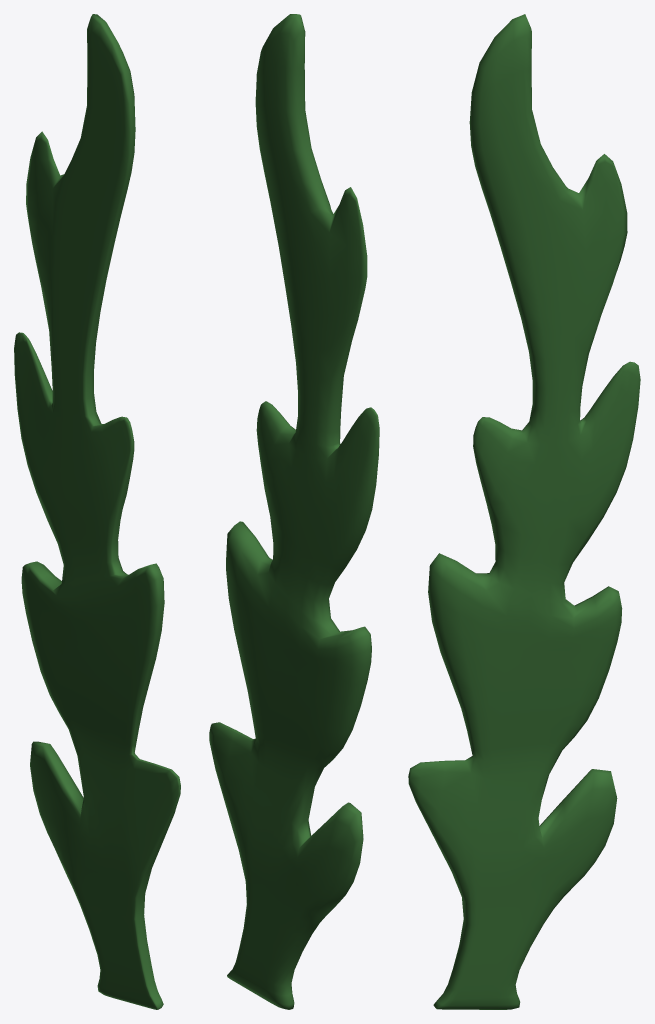
Rendered from rumput laut panjang 2.fbx.
3 views of the same model, side by side, from view 1: azimuth 30°, elevation 25°; view 2: azimuth 210°, elevation 25°; view 3: azimuth 270°, elevation 25° (orthographic). The views are drawn at different scales.
Visible parts, largest first — view 1: Cube.046; view 2: Cube.046; view 3: Cube.046.
Boxes of the visible parts, x1,y1,x2,y2 form: Cube.046: [14, 14, 180, 1009]; Cube.046: [209, 14, 379, 1009]; Cube.046: [408, 14, 640, 1009].
Bounding box in the file's own units: 72.62 × 1186 × 252.
